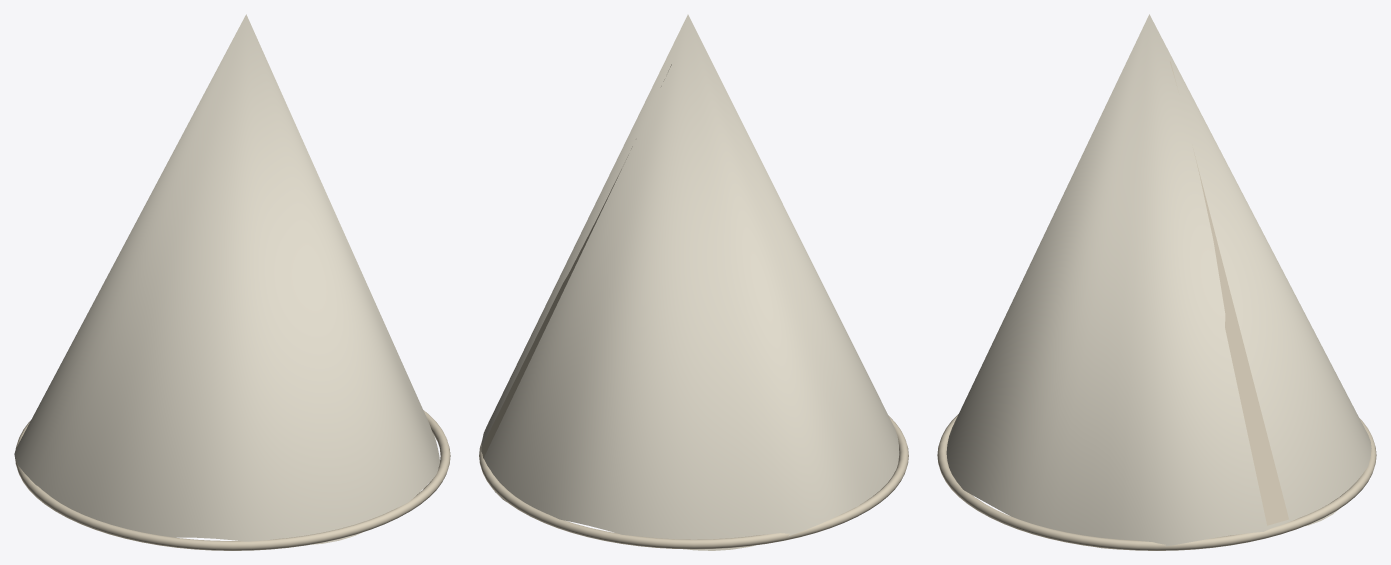
The model's file is paper_nose_cone.glb.
The picture shows the model from 3 angles, left to right: view 1: azimuth 30°, elevation 25°; view 2: azimuth 150°, elevation 25°; view 3: azimuth 270°, elevation 25°; orthographic projection. The views are drawn at different scales.
Parts seen in each view (by area): view 1: Paper_Nose_Cone_Body, Paper_Nose_Cone_Lower_Edge; view 2: Paper_Nose_Cone_Body, Paper_Nose_Cone_Lower_Edge, Paper_Nose_Cone_Overlap_Seam; view 3: Paper_Nose_Cone_Body, Paper_Nose_Cone_Lower_Edge, Paper_Nose_Cone_Overlap_Seam.
Part boxes in pixels (box(x1,y1,x2,y2)): Paper_Nose_Cone_Body: box(14, 14, 439, 544); Paper_Nose_Cone_Lower_Edge: box(15, 410, 450, 550); Paper_Nose_Cone_Body: box(481, 14, 899, 550); Paper_Nose_Cone_Lower_Edge: box(479, 415, 908, 549); Paper_Nose_Cone_Overlap_Seam: box(481, 64, 671, 458); Paper_Nose_Cone_Body: box(946, 14, 1371, 549); Paper_Nose_Cone_Lower_Edge: box(937, 414, 1376, 550); Paper_Nose_Cone_Overlap_Seam: box(1170, 61, 1288, 525).
Size of the model in its own units: 0.696 by 0.792 by 0.696.
